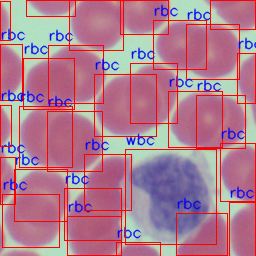rbc: (94, 74, 156, 136), (47, 111, 102, 171), (19, 106, 72, 167), (48, 45, 103, 103), (168, 91, 222, 147), (2, 194, 59, 247), (64, 188, 121, 240), (186, 24, 239, 79), (130, 63, 177, 123), (14, 169, 67, 221), (69, 0, 123, 50), (84, 154, 131, 210), (23, 58, 74, 109), (153, 20, 206, 69), (196, 95, 245, 148), (176, 213, 227, 255), (67, 216, 121, 255), (220, 143, 255, 201), (120, 0, 168, 34), (229, 202, 255, 256), (210, 0, 255, 29), (0, 44, 22, 100), (237, 53, 255, 103), (26, 0, 75, 16), (0, 157, 15, 204), (116, 242, 160, 256), (0, 105, 11, 146), (0, 1, 10, 40)
wbc: (125, 149, 216, 244)
